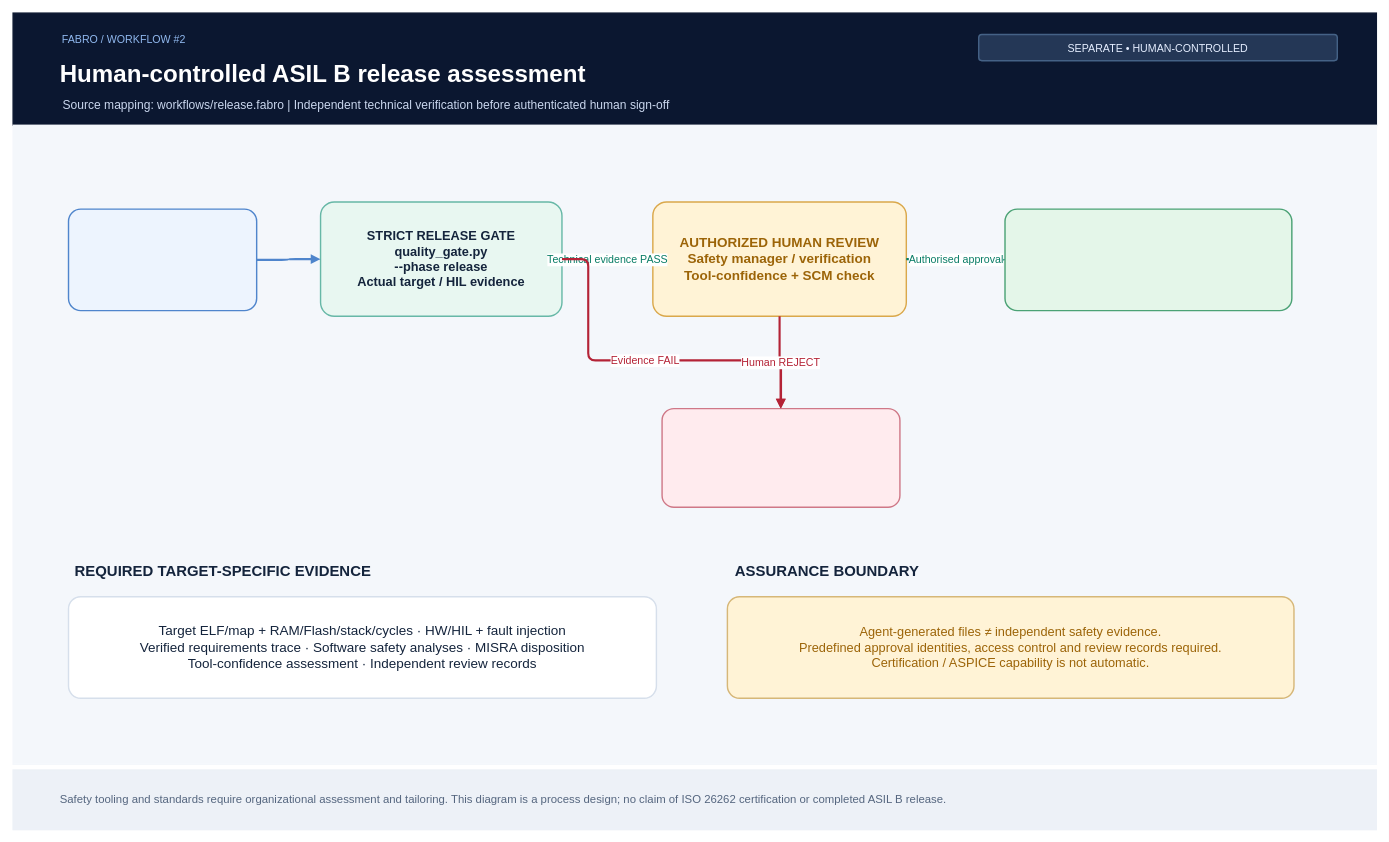
Some shapes in this 1389 by 842 pixel diagram are drawn without their labels. The box of each missing label's shape, as (x1, y1, x2, y2) in pixels:
CANDIDATE From OSS night run No safety claim: (67, 208, 257, 311)
REJECT / HOLD Preserve evidence + deviations No automatic override: (661, 408, 900, 508)
RELEASE AUTHORISED External authenticated SCM / ALM control: (1004, 208, 1292, 311)
